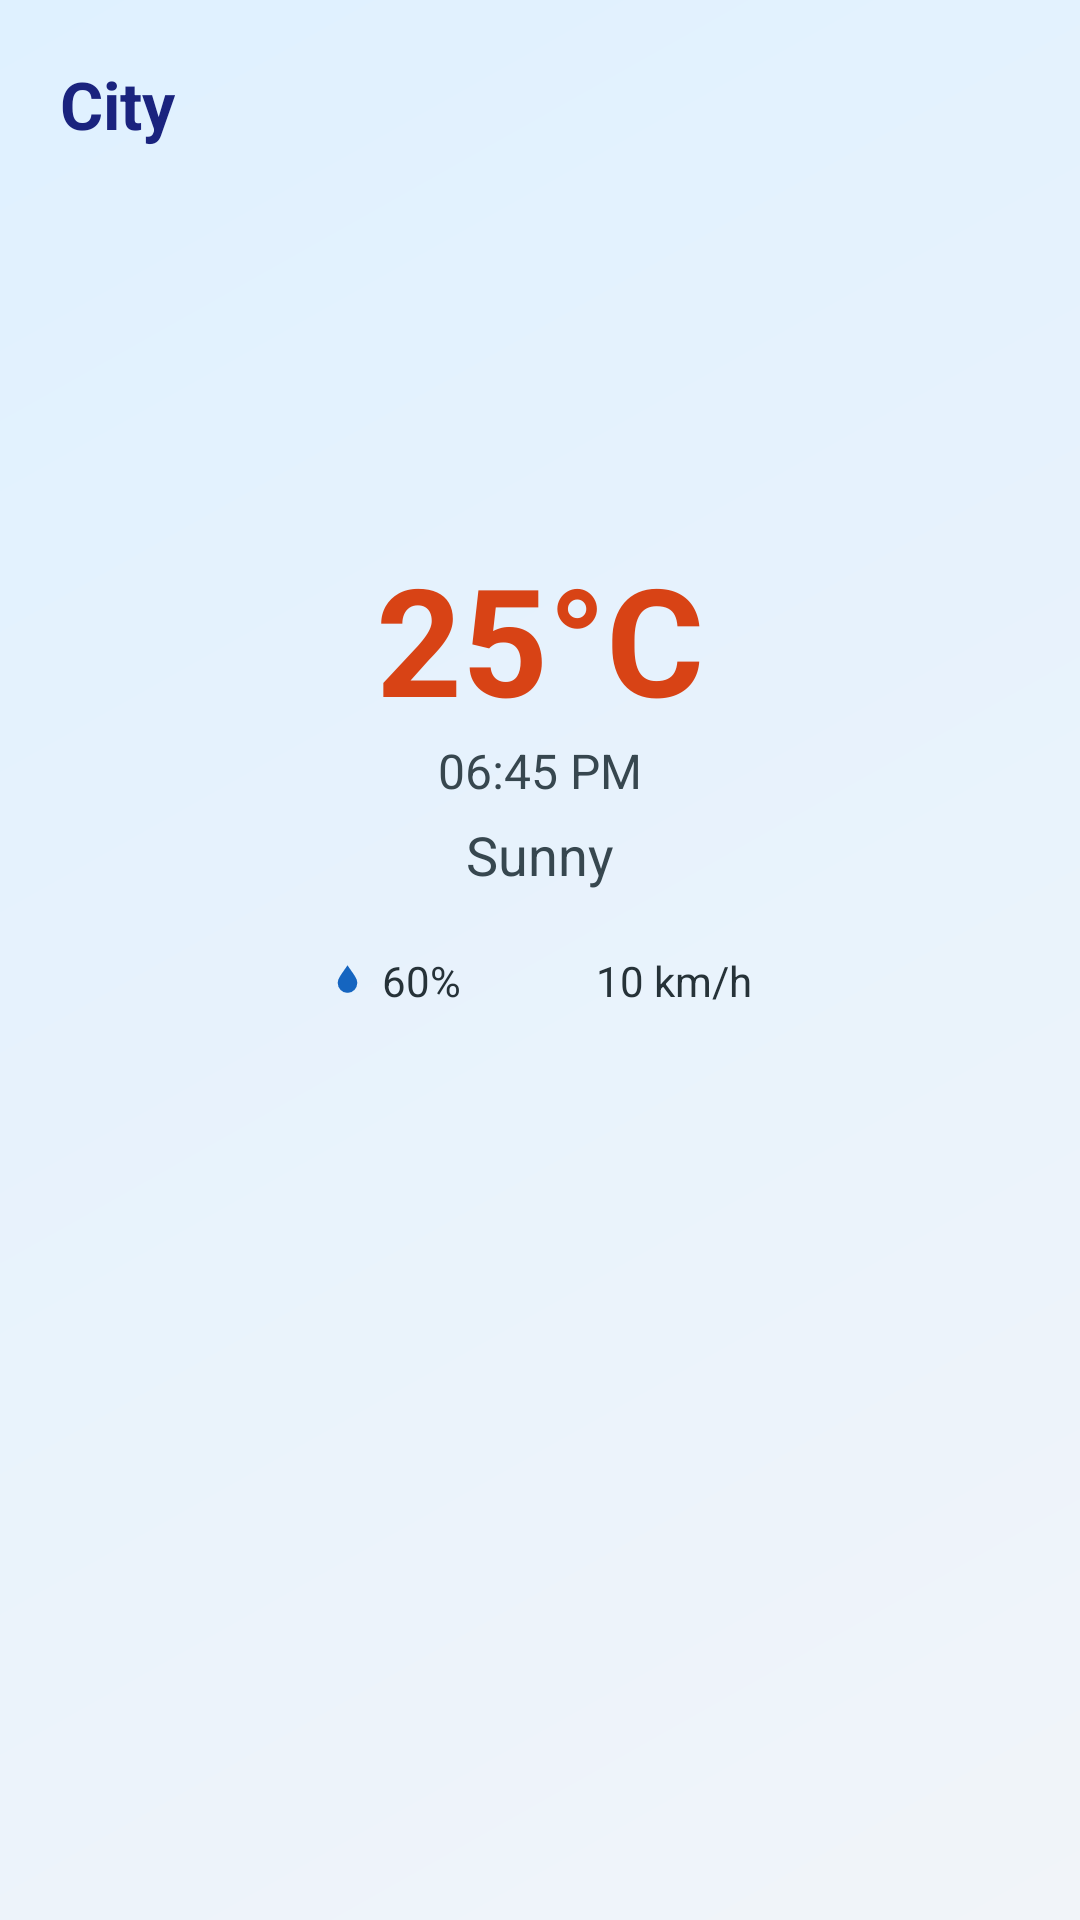

Named icons in this screenshot (1080w x 1920h) and their centers, (x=x, y=y):
humidity: (x=347, y=979)
